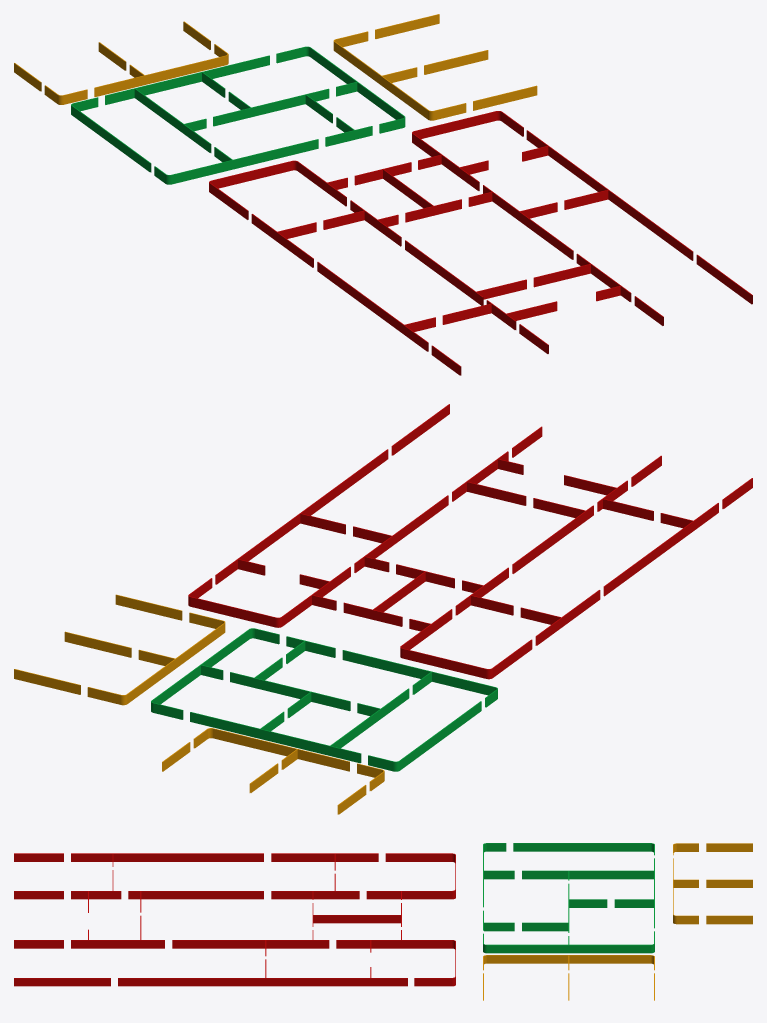
File: Level_Playtest_412.fbx
3 renders of one model, top to bottom at view 1: azimuth 30°, elevation 25°; view 2: azimuth 150°, elevation 25°; view 3: azimuth 270°, elevation 25°, orthographic. The views are drawn at different scales.
Visible parts, largest first — view 1: Wall (×2), Wall17, Wall15, Wall8, Wall4, Wall18, Wall16, Wall14, Wall1, Wall12929, Wall2; view 2: Wall (×2), Wall17, Wall15, Wall8, Wall4, Wall18, Wall16, Wall14, Wall12929, Wall2, Wall1; view 3: Wall (×2), Wall18, Wall4, Wall14, Wall16, Wall11, Wall12, Wall2, Wall1, Wall3.
Boxes of the visible parts, bbox=[...] form: Wall (×2): bbox=[14, 21, 752, 375]; Wall17: bbox=[105, 55, 269, 104]; Wall15: bbox=[171, 139, 318, 184]; Wall8: bbox=[213, 88, 329, 126]; Wall4: bbox=[334, 41, 428, 119]; Wall18: bbox=[310, 47, 404, 119]; Wall16: bbox=[71, 105, 151, 172]; Wall14: bbox=[134, 88, 211, 152]; Wall1: bbox=[375, 14, 439, 38]; Wall12929: bbox=[473, 85, 537, 110]; Wall2: bbox=[424, 50, 488, 74]; Wall (×2): bbox=[162, 404, 752, 814]; Wall17: bbox=[190, 712, 361, 763]; Wall15: bbox=[342, 650, 495, 695]; Wall8: bbox=[230, 672, 350, 711]; Wall4: bbox=[127, 623, 224, 703]; Wall18: bbox=[152, 629, 249, 704]; Wall16: bbox=[399, 701, 481, 770]; Wall14: bbox=[330, 688, 409, 748]; Wall12929: bbox=[115, 594, 182, 620]; Wall2: bbox=[64, 631, 131, 657]; Wall1: bbox=[14, 669, 80, 694]; Wall (×2): bbox=[14, 843, 752, 986]; Wall18: bbox=[487, 944, 650, 953]; Wall4: bbox=[487, 955, 650, 963]; Wall14: bbox=[522, 870, 653, 879]; Wall16: bbox=[513, 843, 650, 851]; Wall11: bbox=[522, 922, 568, 931]; Wall12: bbox=[614, 899, 653, 907]; Wall2: bbox=[569, 899, 607, 907]; Wall1: bbox=[484, 922, 514, 931]; Wall3: bbox=[484, 870, 514, 879].
Size of the model in its own units: 20773 by 500 by 41150.
